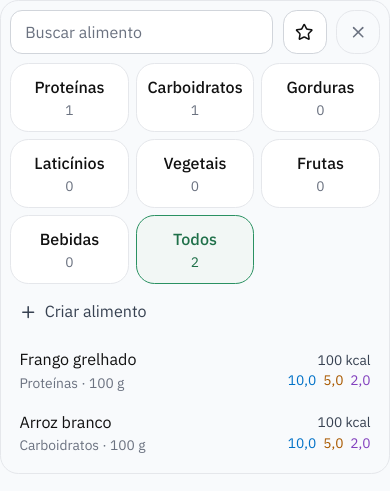
Test: FoodPicker › filters by category through the same category cards as the full browser
The width and height of the screenshot is (390, 491).
Expected: the search field named "Buscar alimento para adicionar" is enabled, [10, 10, 274, 54]
Click the button "Carboidratos 1" at {"x": 195, "y": 98}, box [136, 63, 254, 132]
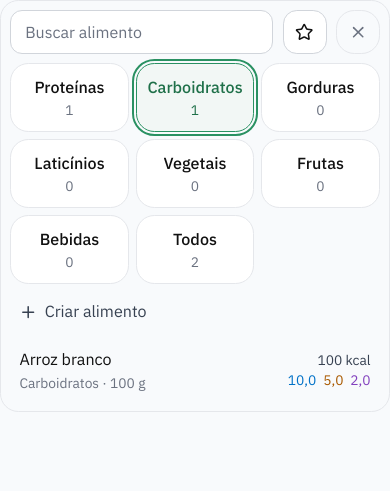
Expected: the button "Arroz branco Carboidratos · 100 g 100 kcal 10,0 5,0 2,0" is shown, [10, 339, 380, 401]
Result: the button "Frango grelhado" is gone
